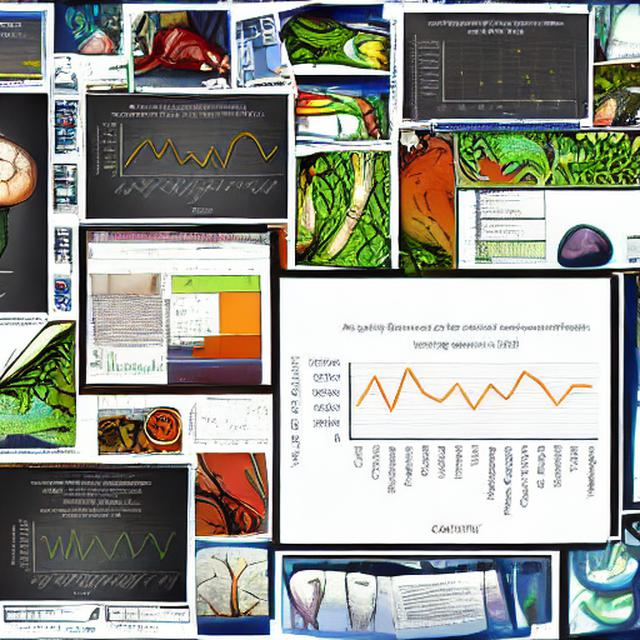Graph: (281, 315, 606, 541), (89, 101, 288, 218), (407, 16, 582, 119), (9, 506, 147, 601), (185, 398, 271, 448), (100, 346, 160, 381)
